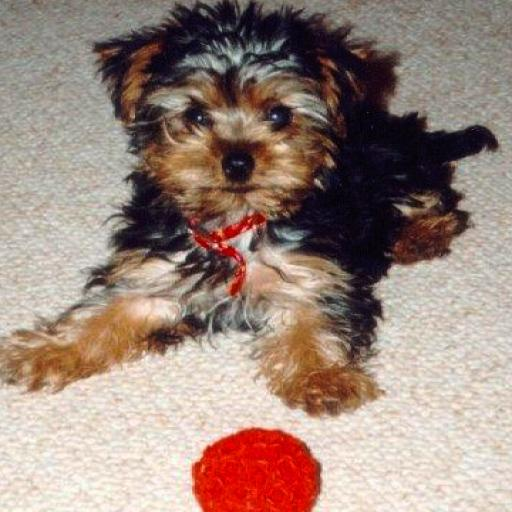dog_face: (97, 24, 374, 226)
